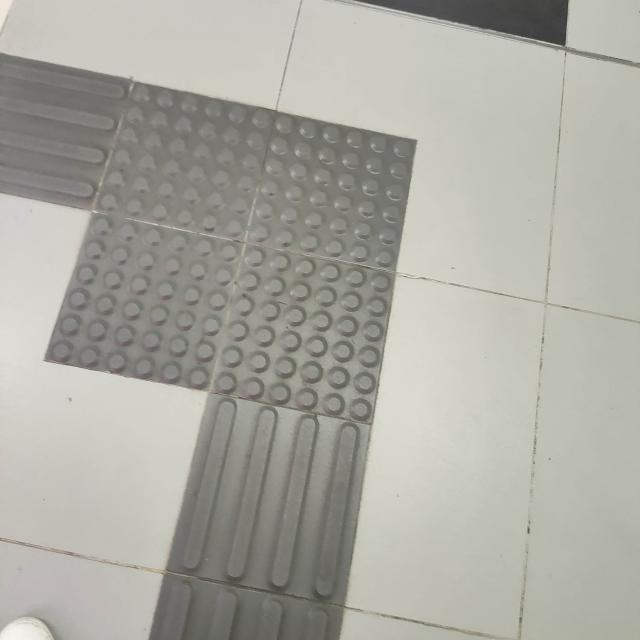kiri: (0, 22, 484, 532)
